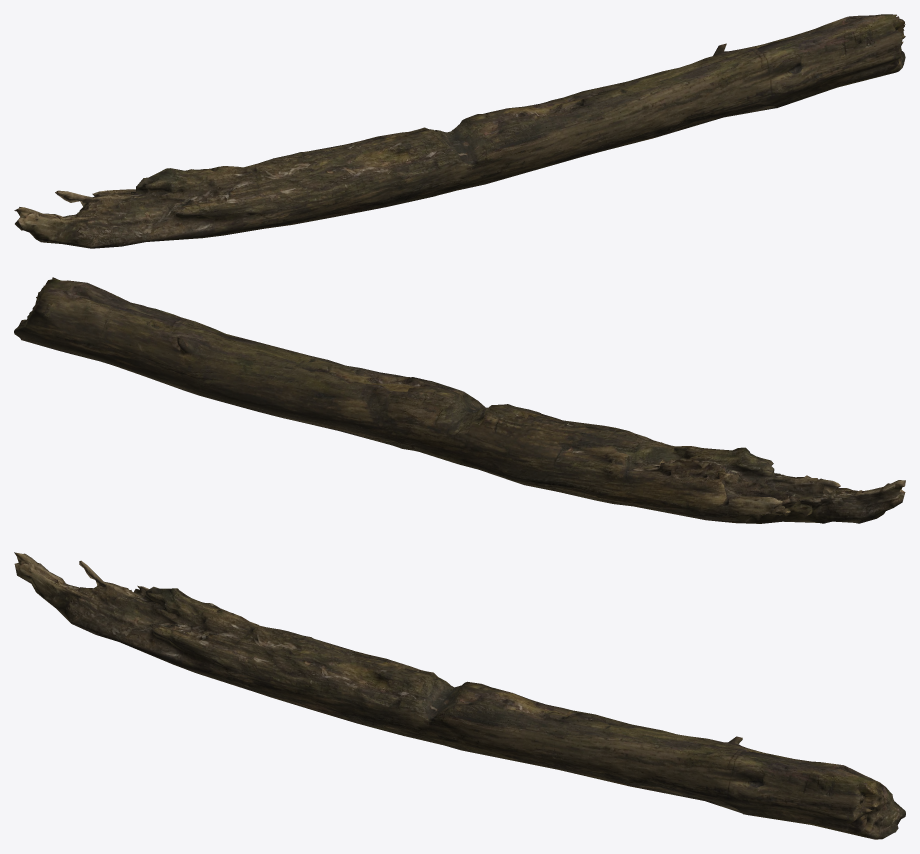
Rendered from dead_tree_trunk.glb.
3 views of the same model, one above another, from view 1: azimuth 30°, elevation 25°; view 2: azimuth 150°, elevation 25°; view 3: azimuth 330°, elevation 25° (orthographic).
Parts seen in each view (by area): view 1: dead_tree_trunk_lod0; view 2: dead_tree_trunk_lod0; view 3: dead_tree_trunk_lod0.
Part boxes in pixels (x1,y1,x2,y2): dead_tree_trunk_lod0: (14,14,905,248); dead_tree_trunk_lod0: (14,277,905,523); dead_tree_trunk_lod0: (14,552,905,839).
Size of what is drawn, in the model's own units: 3.05 by 0.2875 by 0.2774.
Materials: 1 (1 with a texture image).
